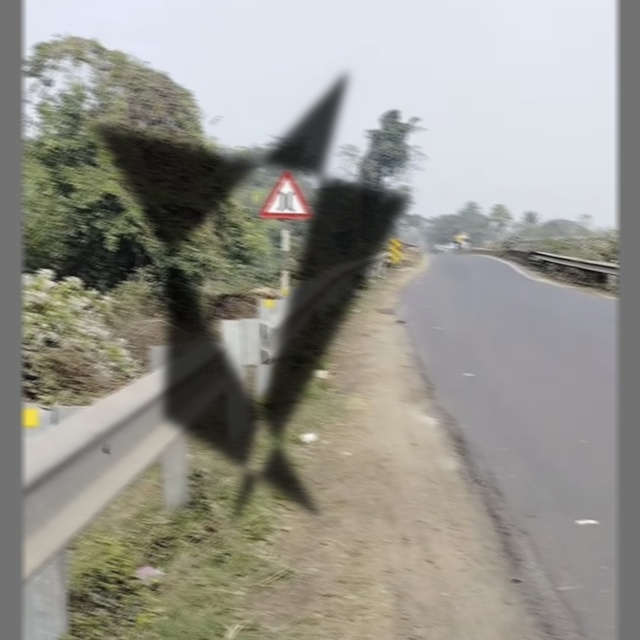Narrow_Bridge: (261, 170, 315, 222)
